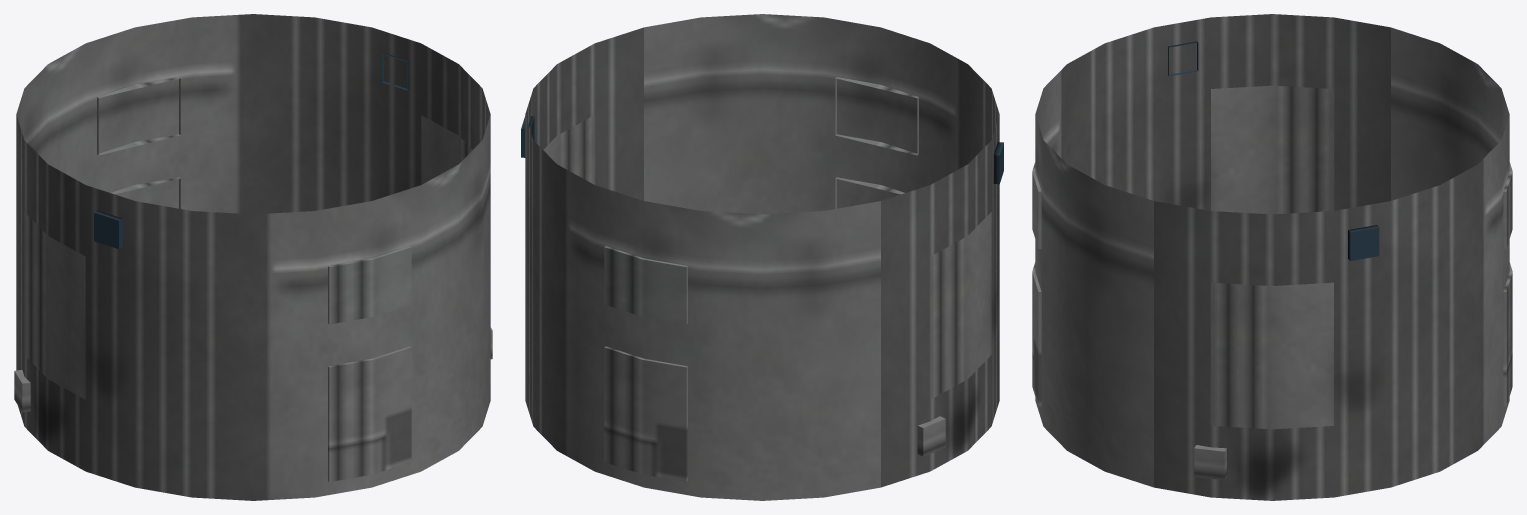
The model's file is short 1p5 crew_naked_plain.obj.
3 views of the same model, side by side, from view 1: azimuth 30°, elevation 25°; view 2: azimuth 150°, elevation 25°; view 3: azimuth 270°, elevation 25° (orthographic).
Visible parts, largest first — view 1: 1; view 2: 1; view 3: 1.
Part boxes in pixels (x1,y1,x2,y2): 1: (14, 14, 492, 500); 1: (521, 14, 1003, 500); 1: (1032, 14, 1512, 500).
Size of the model in its own units: 1.89 by 1.25 by 1.9.
